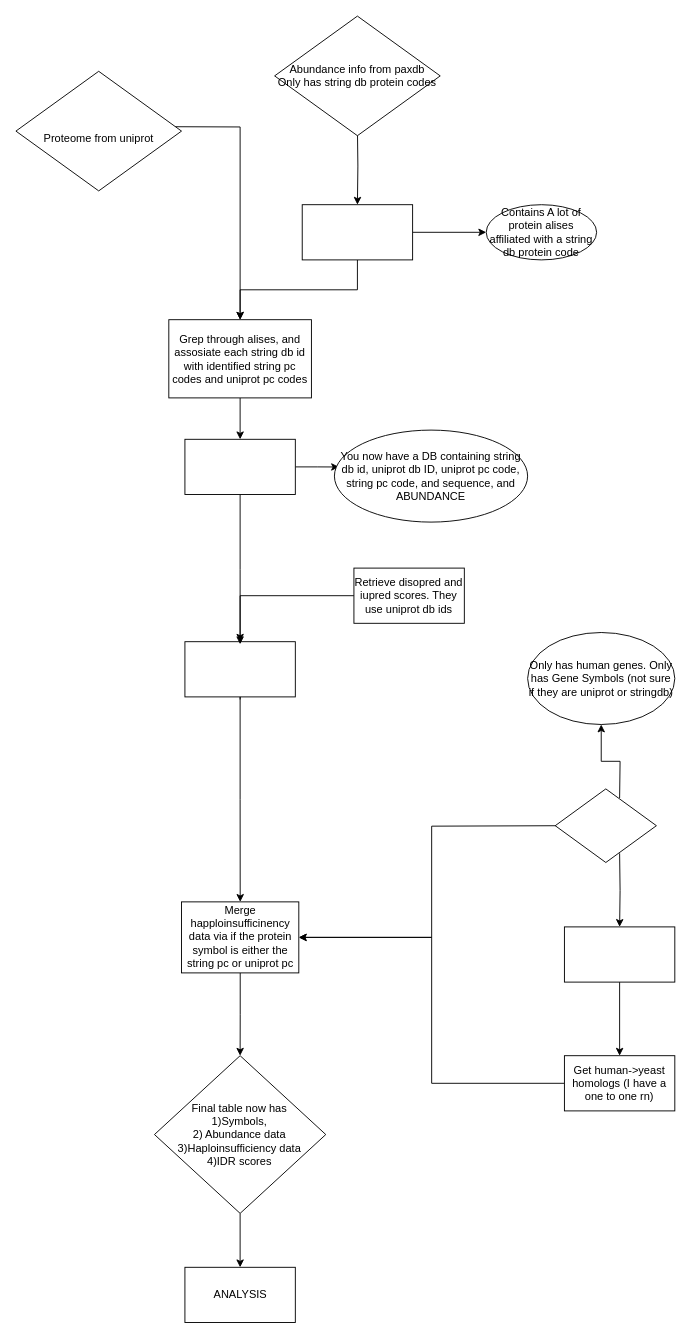
The diagram is 692 pixels wide and 1339 high, and some of its shapes have lost their labels. The shapes that lost their labels are listed below. From the top down, each one's box as (x1, y1, x2, y2) in pixels, then its label:
(301, 204, 413, 260): download protein alises from pax db
(184, 438, 295, 494): Merge our linker table with our abundance table string id
(184, 641, 295, 697): Merge disorder scores onto the table via uniprot db Ids
(554, 788, 656, 862): Clinigen haploinsufficiency database
(564, 926, 675, 982): If we are looking at yeast, then we need to go from human to yeast homologs
